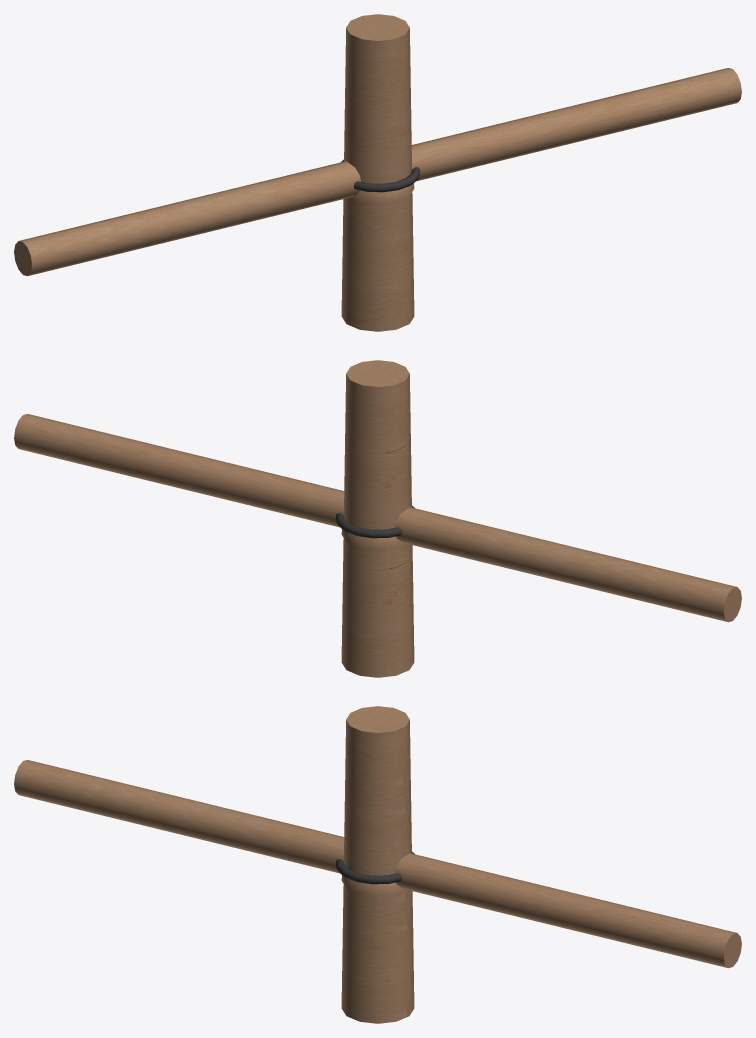
Rendered from Gate_Complete-v1.0.0.glb.
The picture shows the model from 3 angles, top to bottom: view 1: azimuth 30°, elevation 25°; view 2: azimuth 150°, elevation 25°; view 3: azimuth 330°, elevation 25°; orthographic projection.
Parts seen in each view (by area): view 1: Geo_ArchBeam, Geo_LeftPost, Geo_RightPost; view 2: Geo_ArchBeam, Geo_LeftPost, Geo_RightPost; view 3: Geo_ArchBeam, Geo_RightPost, Geo_LeftPost.
Boxes of the visible parts, bbox=[...] form: Geo_ArchBeam: bbox=[14, 68, 741, 276]; Geo_LeftPost: bbox=[341, 14, 409, 331]; Geo_RightPost: bbox=[347, 14, 414, 329]; Geo_ArchBeam: bbox=[14, 414, 741, 622]; Geo_LeftPost: bbox=[346, 360, 414, 677]; Geo_RightPost: bbox=[341, 360, 408, 675]; Geo_ArchBeam: bbox=[14, 760, 741, 968]; Geo_RightPost: bbox=[346, 706, 414, 1023]; Geo_LeftPost: bbox=[341, 706, 409, 1021].
Size of the model in its own units: 294903 by 114684 by 30801.
3 materials, 2 textured.
